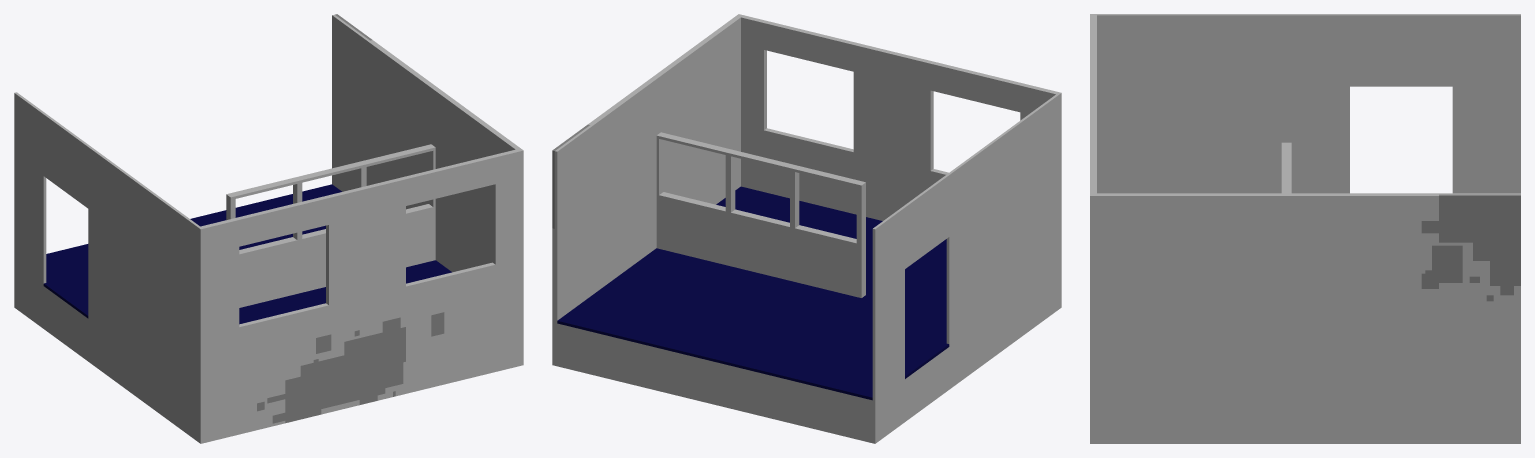
The model's file is 2x2 first 1(2)-3.obj.
The picture shows the model from 3 angles, left to right: view 1: azimuth 30°, elevation 25°; view 2: azimuth 150°, elevation 25°; view 3: azimuth 270°, elevation 25°; orthographic projection. The views are drawn at different scales.
Parts seen in each view (by area): view 1: 2x2 first 1(2)-3; view 2: 2x2 first 1(2)-3; view 3: 2x2 first 1(2)-3.
Boxes of the visible parts, left/top/right/bottom form: 2x2 first 1(2)-3: left=14, top=14, right=523, bottom=443; 2x2 first 1(2)-3: left=552, top=14, right=1061, bottom=443; 2x2 first 1(2)-3: left=1090, top=14, right=1520, bottom=443.
Size of the model in its own units: 126 by 80 by 126.
1 material, 1 textured.
